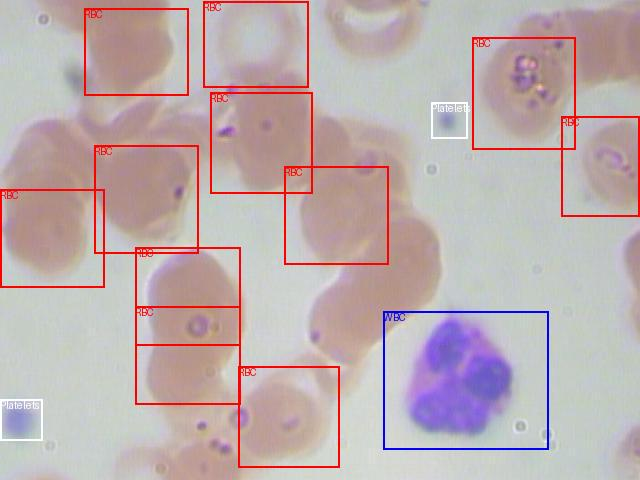Platelets: (0, 399, 42, 440), (431, 102, 467, 138)
RBC: (472, 37, 575, 149), (94, 145, 198, 253), (210, 92, 312, 193), (135, 247, 240, 345), (135, 306, 240, 404), (238, 366, 339, 467), (0, 189, 104, 287), (284, 166, 388, 264), (84, 8, 188, 95), (203, 1, 308, 87), (561, 116, 639, 216)
WBC: (383, 311, 548, 449)
